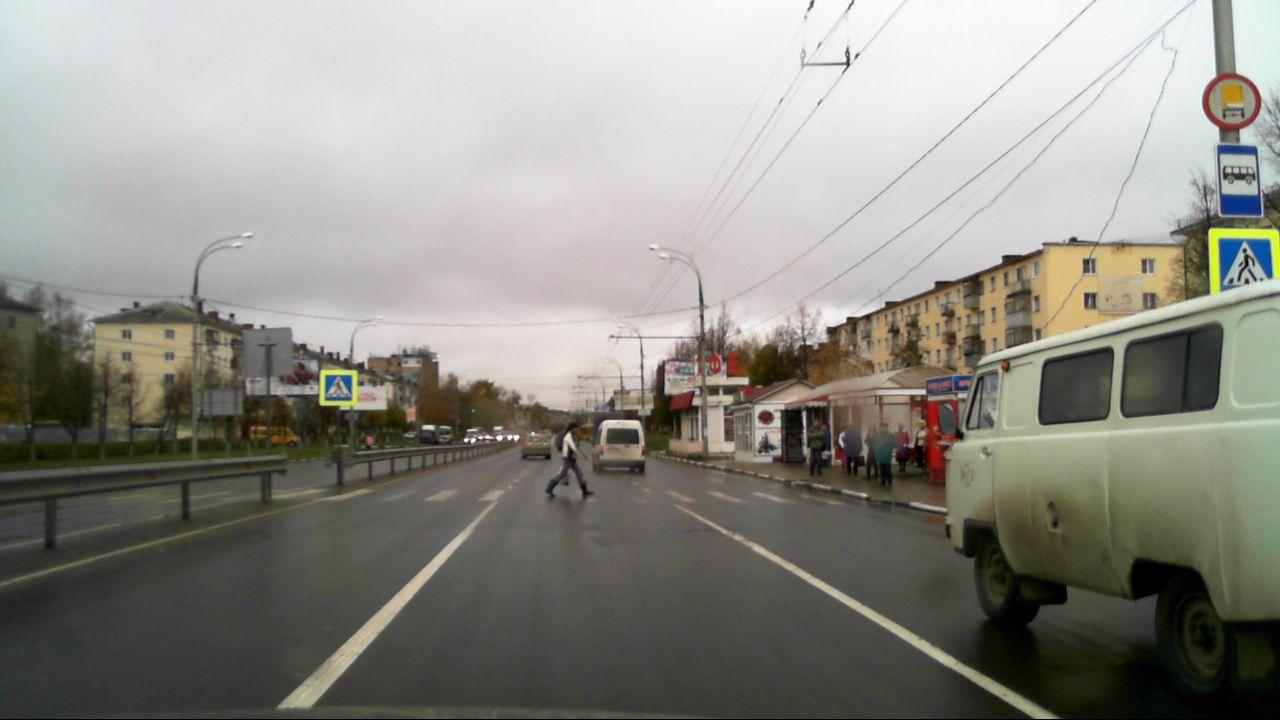3_32: (1202, 72, 1263, 131)
5_16: (1214, 145, 1265, 216)
5_19_1: (1213, 235, 1275, 291)
5_19_2: (323, 373, 352, 403)
